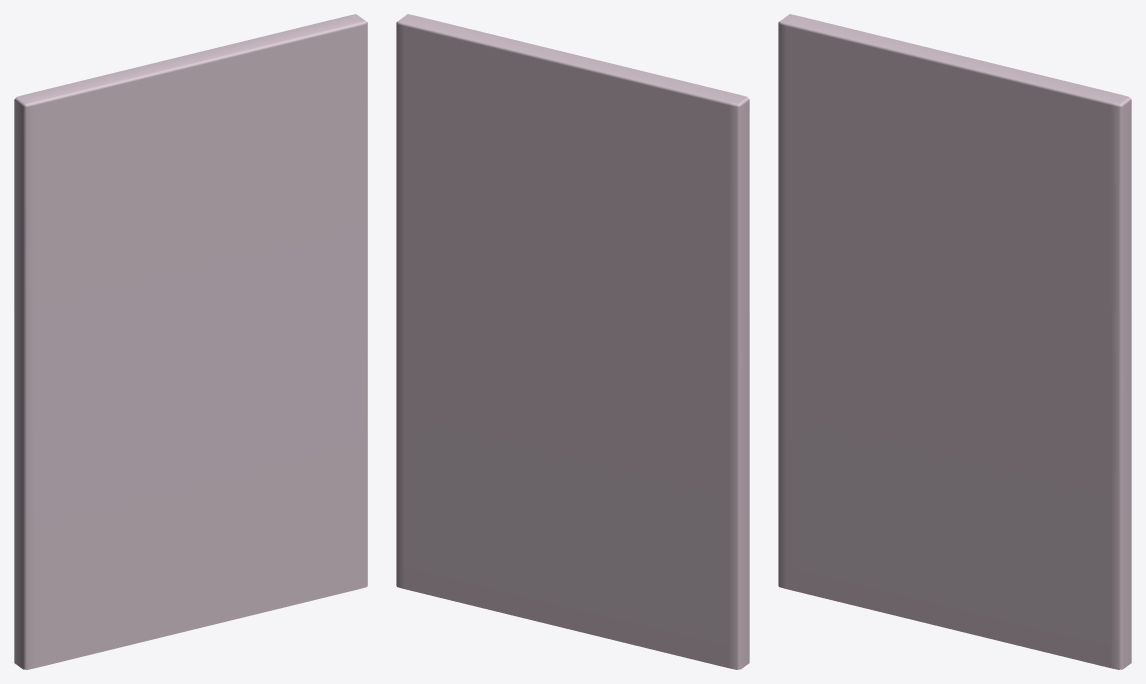
Rendered from mod_sc_roma_001_wall_012.fbx.
The picture shows the model from 3 angles, left to right: view 1: azimuth 30°, elevation 25°; view 2: azimuth 150°, elevation 25°; view 3: azimuth 330°, elevation 25°; orthographic projection.
Visible parts, largest first — view 1: mod_sc_roma_001_wall_012; view 2: mod_sc_roma_001_wall_012; view 3: mod_sc_roma_001_wall_012.
Part boxes in pixels (<box>): mod_sc_roma_001_wall_012: <box>14,14,367,669</box>; mod_sc_roma_001_wall_012: <box>396,14,749,669</box>; mod_sc_roma_001_wall_012: <box>778,14,1131,669</box>.
Size of what is drawn, in the model's own units: 638 by 1000 by 40.
